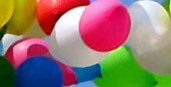Balloon: (79, 1, 131, 50), (130, 1, 171, 49), (12, 57, 63, 87)
